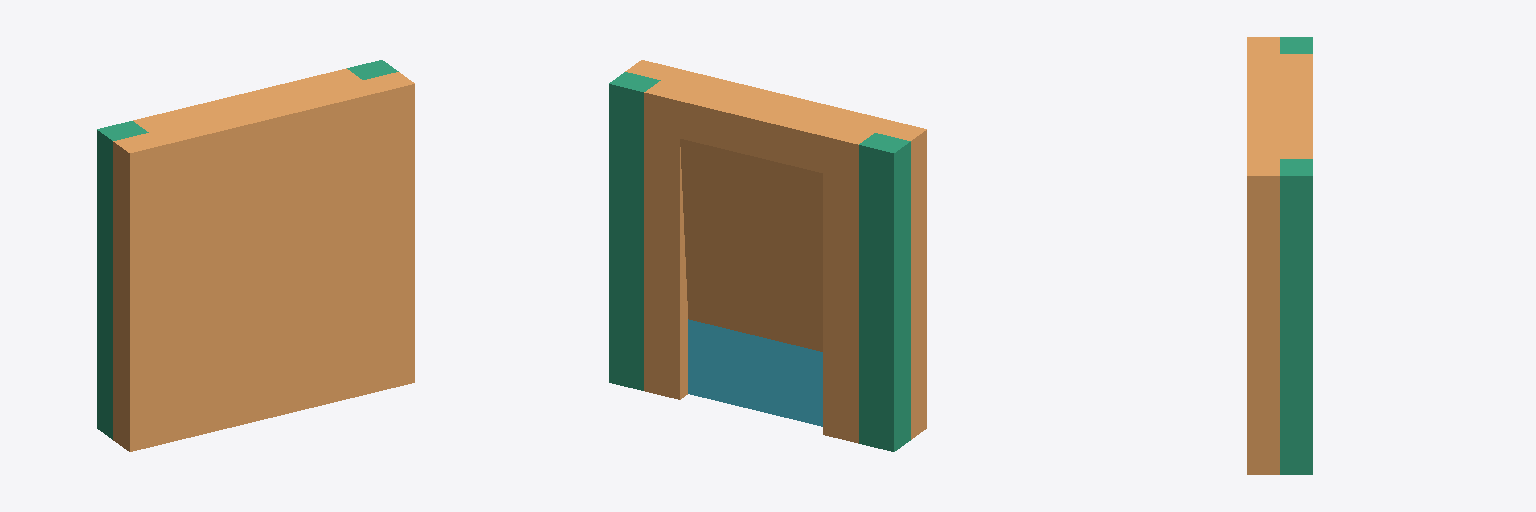
Rendered from tile_riverTransition.obj.
The picture shows the model from 3 angles: view 1: azimuth 30°, elevation 25°; view 2: azimuth 150°, elevation 25°; view 3: azimuth 270°, elevation 25°; orthographic projection.
Visible parts, largest first — view 1: tile_riverTransition; view 2: tile_riverTransition; view 3: tile_riverTransition.
Boxes of the visible parts, x1=… form: tile_riverTransition: x1=97, y1=60, x2=414, y2=451; tile_riverTransition: x1=609, y1=60, x2=926, y2=451; tile_riverTransition: x1=1247, y1=37, x2=1312, y2=474.
Size of the model in its own units: 1 by 1 by 0.2.